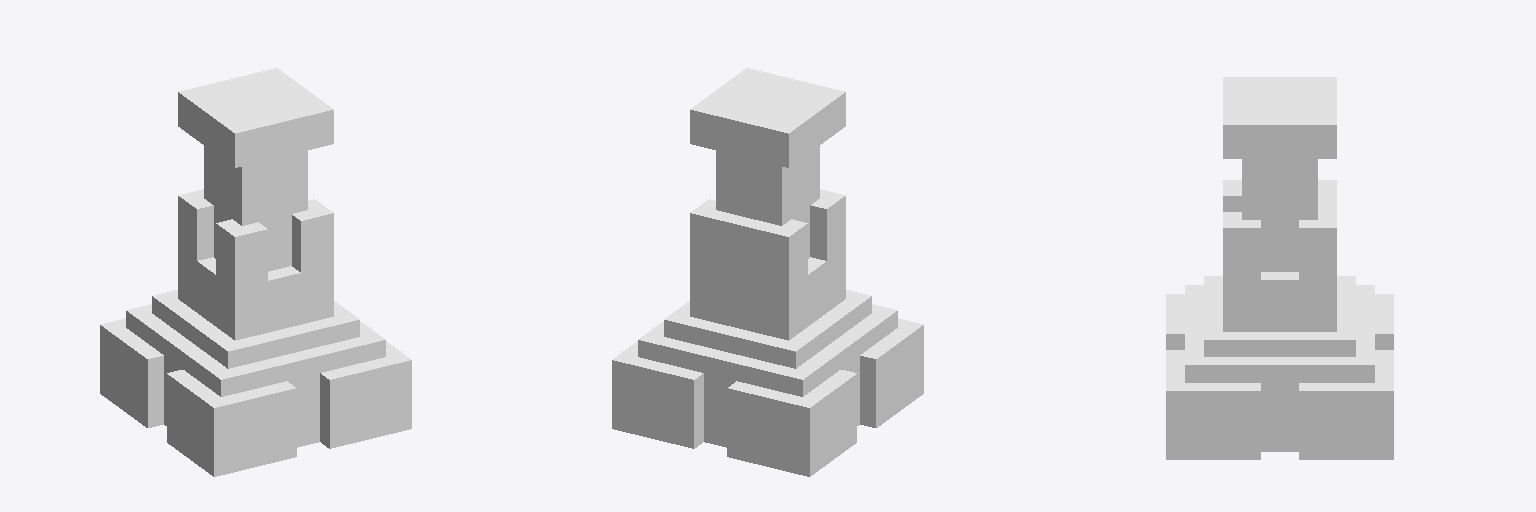
File: lightpawn.blue.obj
3 views of the same model, side by side, from view 1: azimuth 30°, elevation 25°; view 2: azimuth 150°, elevation 25°; view 3: azimuth 270°, elevation 25° (orthographic).
Visible parts, largest first — view 1: object 1; view 2: object 1; view 3: object 1.
Part boxes in pixels (bbox=[...]): object 1: bbox=[100, 68, 411, 476]; object 1: bbox=[612, 68, 923, 476]; object 1: bbox=[1166, 77, 1393, 459].
Bounding box in the file's own units: 1.2 × 1.8 × 1.2.